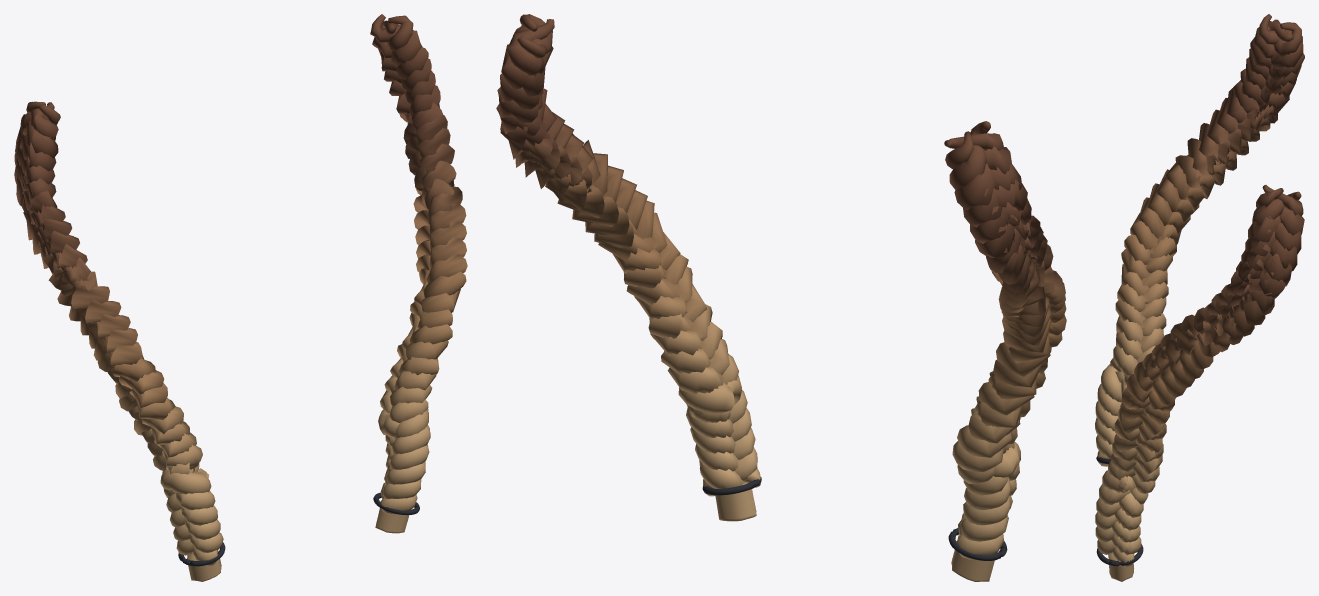
Rendered from Ombre-79137781d454253-hair.glb.
3 renders of one model, left to right at view 1: azimuth 30°, elevation 25°; view 2: azimuth 150°, elevation 25°; view 3: azimuth 270°, elevation 25°, orthographic. The views are drawn at different scales.
Visible parts, largest first — view 1: 226 hairLengths / Hair / chestnut226, 226 hairLengths / Hair / ties226; view 2: 226 hairLengths / Hair / chestnut226, 226 hairLengths / Hair / ties226; view 3: 226 hairLengths / Hair / chestnut226, 226 hairLengths / Hair / ties226.
Boxes of the visible parts, x1,y1,x2,y2 form: 226 hairLengths / Hair / chestnut226: (14,14,467,581); 226 hairLengths / Hair / ties226: (178,492,419,566); 226 hairLengths / Hair / chestnut226: (496,14,1066,581); 226 hairLengths / Hair / ties226: (702,477,1007,560); 226 hairLengths / Hair / chestnut226: (1095,14,1304,581); 226 hairLengths / Hair / ties226: (1096,456,1143,566).
Bounding box in the file's own units: 1.03 × 1.06 × 0.4665.
Materials: 2 (1 with a texture image).
